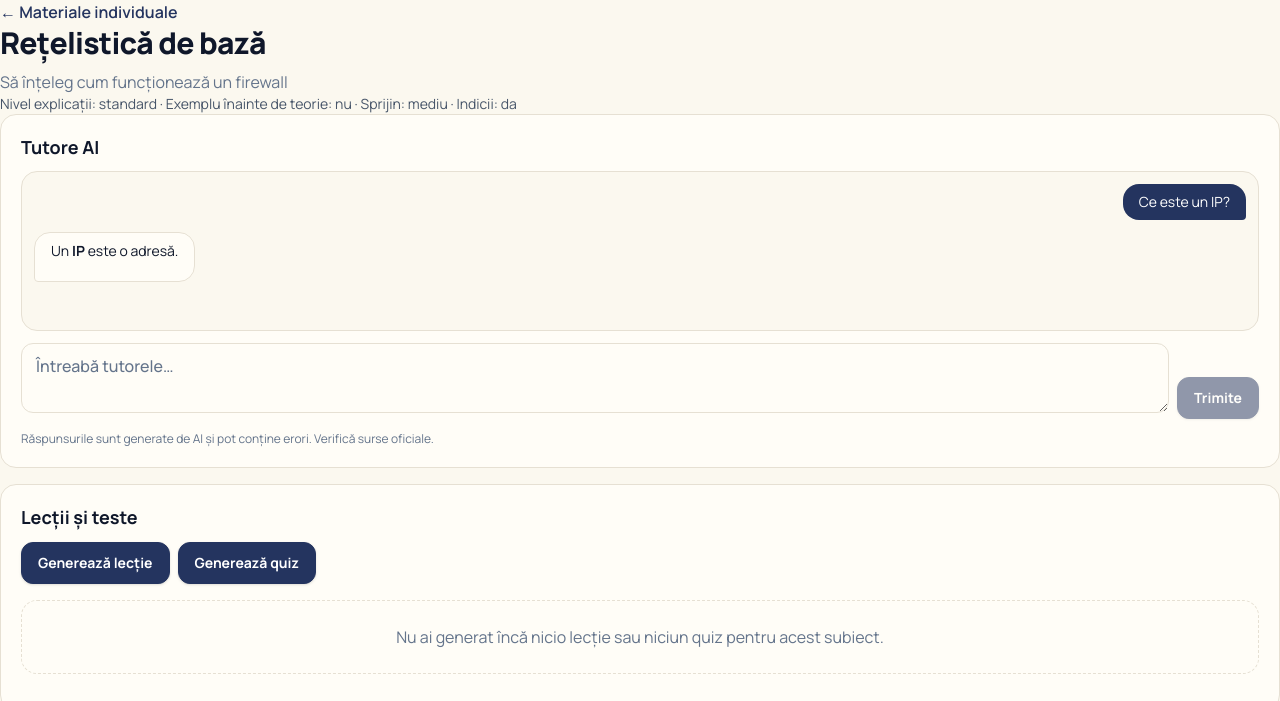
StudentTopicDetailPage › shows a clear message on 429 when generating a lesson, and keeps the rest working
The image size is (1280, 701).
Expected: the text "Ce este un IP?" is shown, x1=1123 y1=184 x2=1246 y2=220
Click the button "Generează lecție": click(95, 563) x1=21 y1=542 x2=170 y2=584
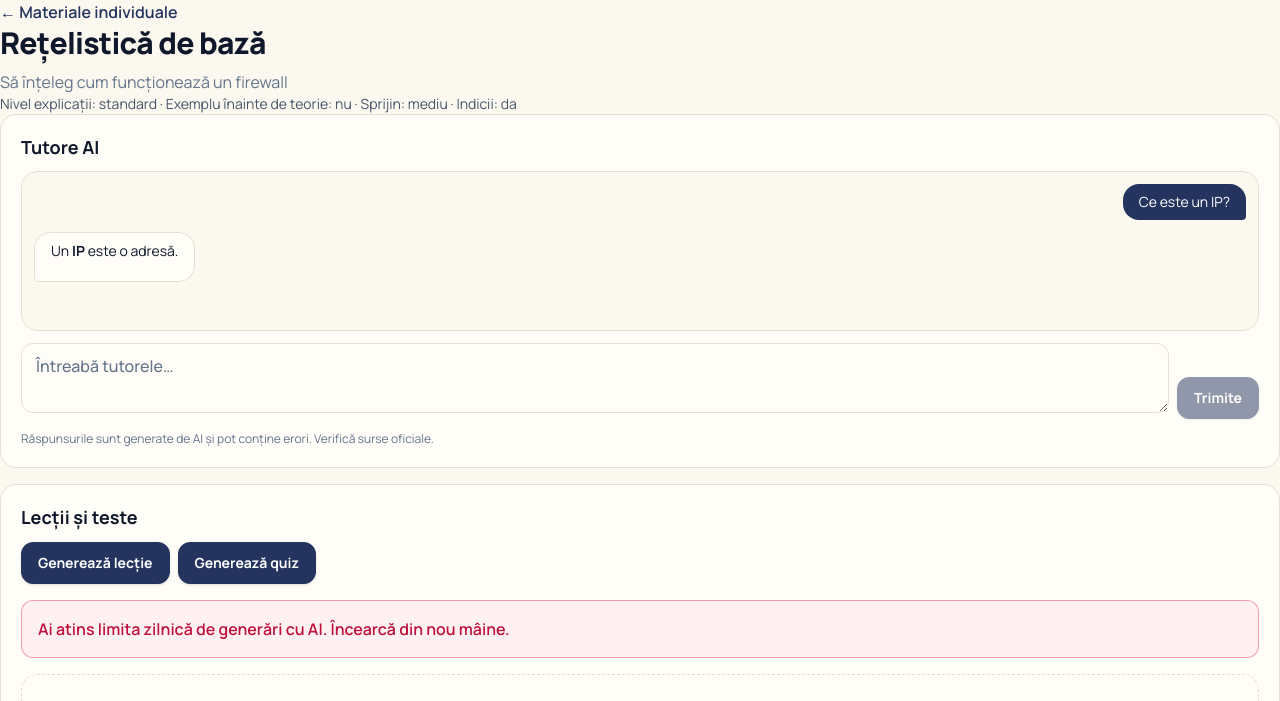
Expected: the text "Ce este un IP?" is shown, x1=1123 y1=184 x2=1246 y2=220
Expected: the text "limita zilnică" is shown, x1=38 y1=618 x2=510 y2=640
